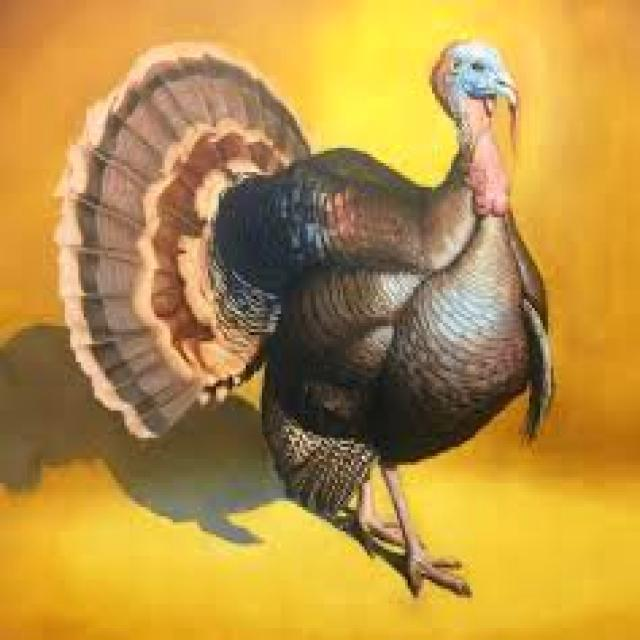turkey: (59, 42, 551, 592)
